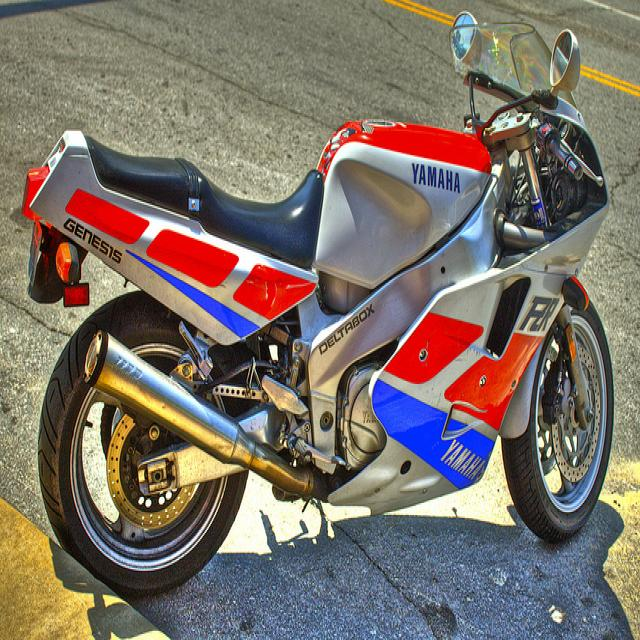motor: (22, 9, 617, 593)
